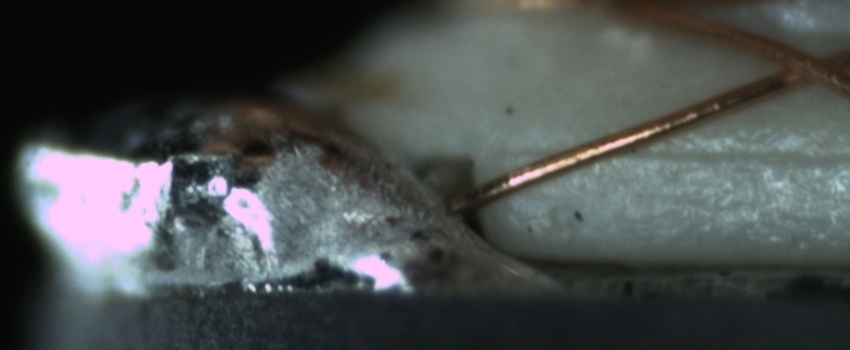CL: (762, 36, 846, 92)
DL: (514, 123, 850, 186)
